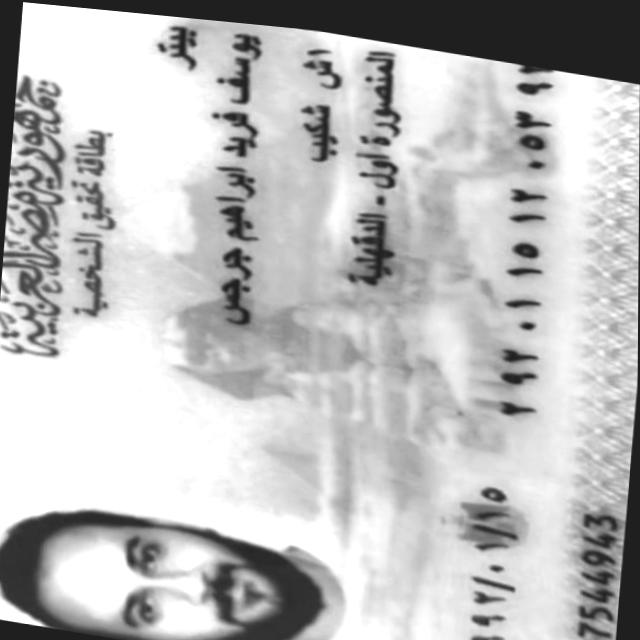front: (0, 2, 640, 640)
